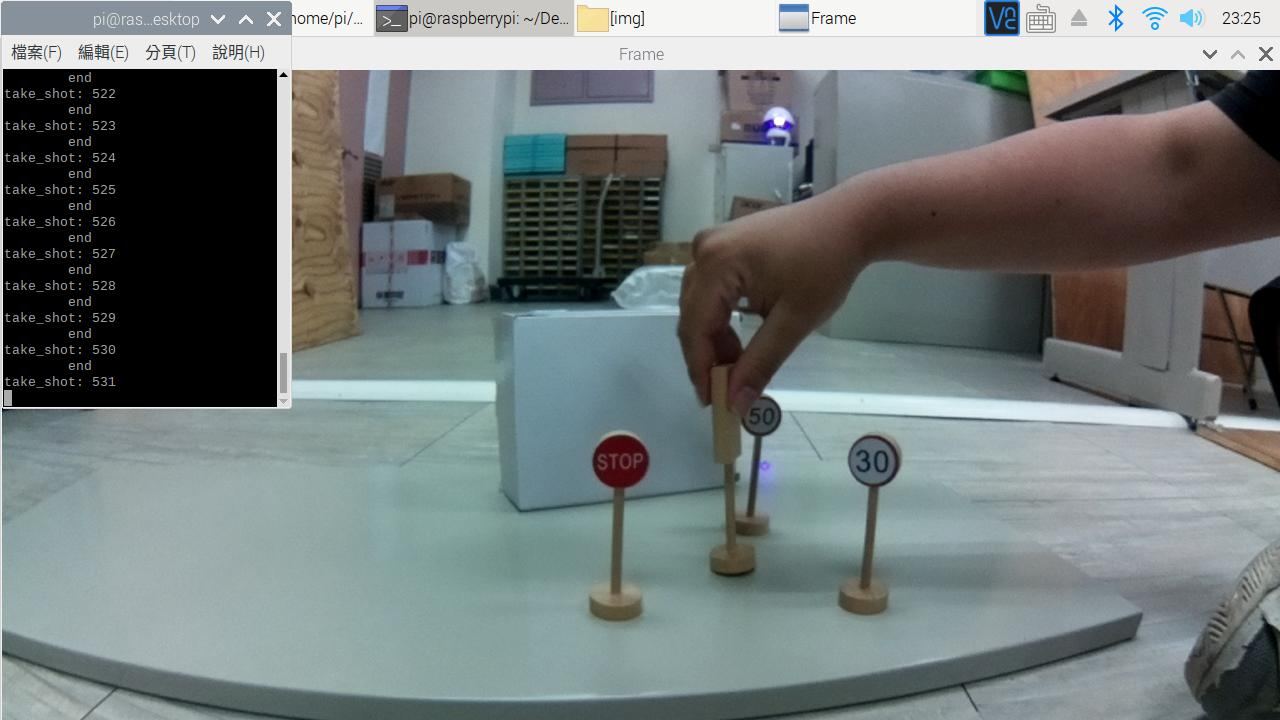Speed30: (834, 425, 911, 503)
Speed50: (737, 388, 791, 448)
Stop: (586, 429, 657, 496)
